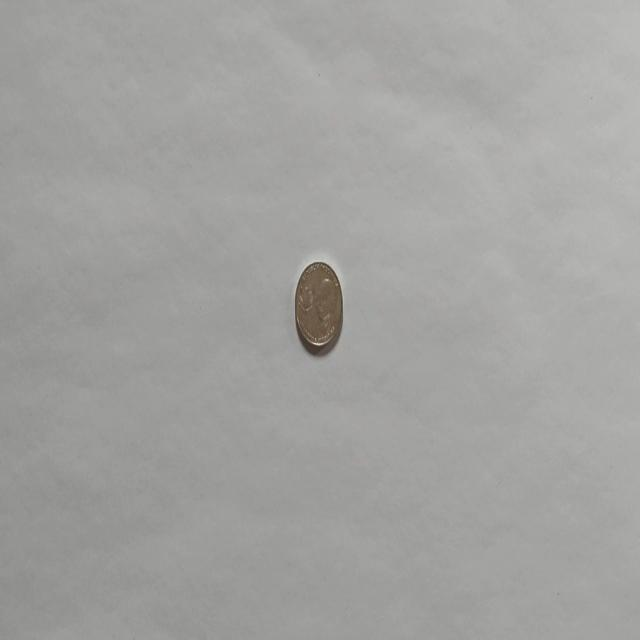lima ratus rupiah: (294, 258, 344, 352)
